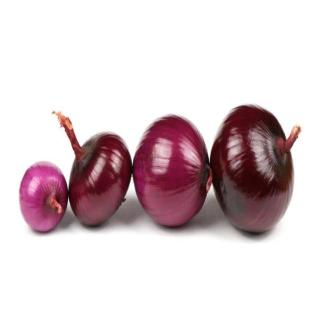Bawang Merah: (132, 113, 215, 230), (17, 159, 70, 235)
